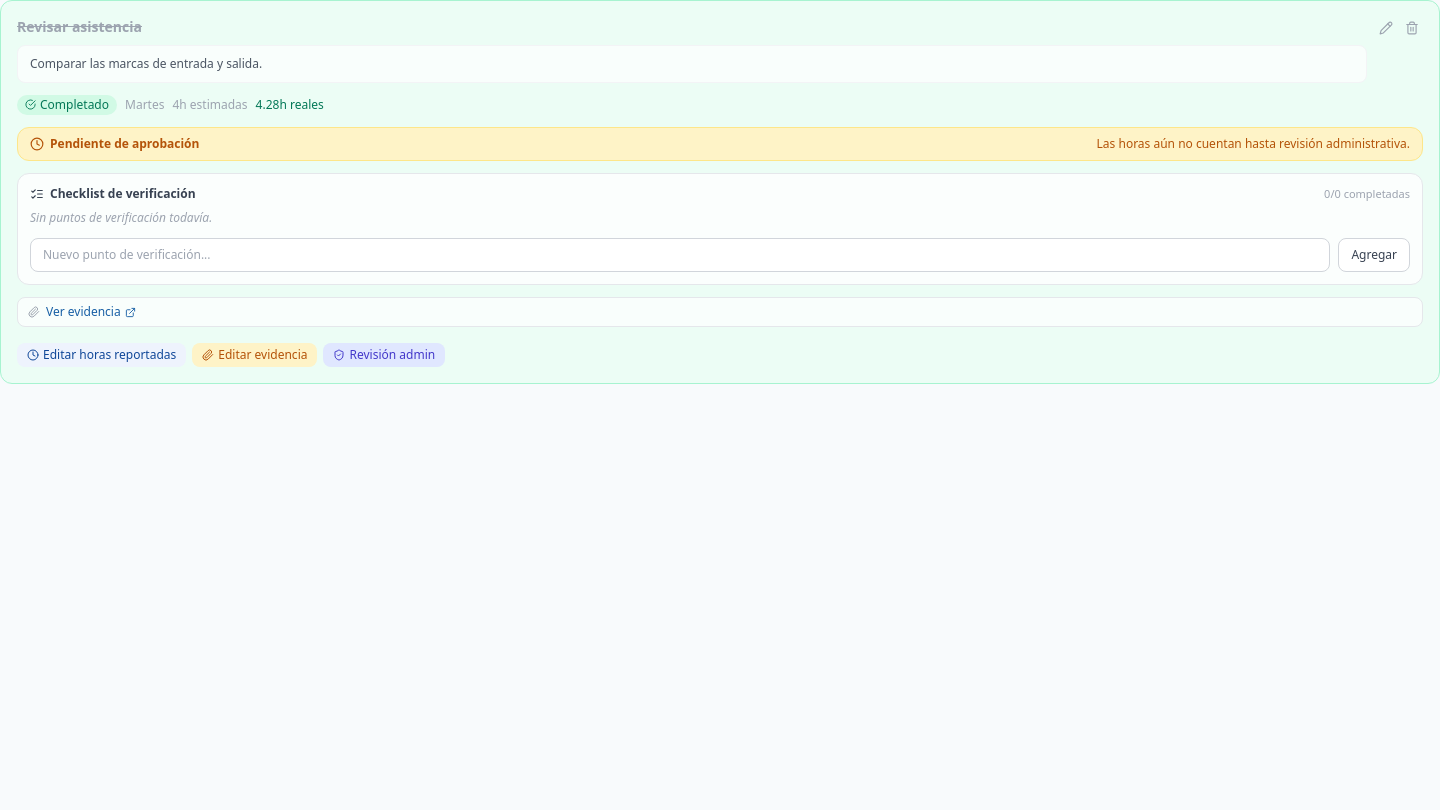
Scenario: edición de horas reportadas › precarga las horas reportadas redondeadas en el campo de revisión
The width and height of the screenshot is (1440, 810).
Step 1. Click the button "Revisión admin" → (384, 355), box x1=324 y1=343 x2=445 y2=367
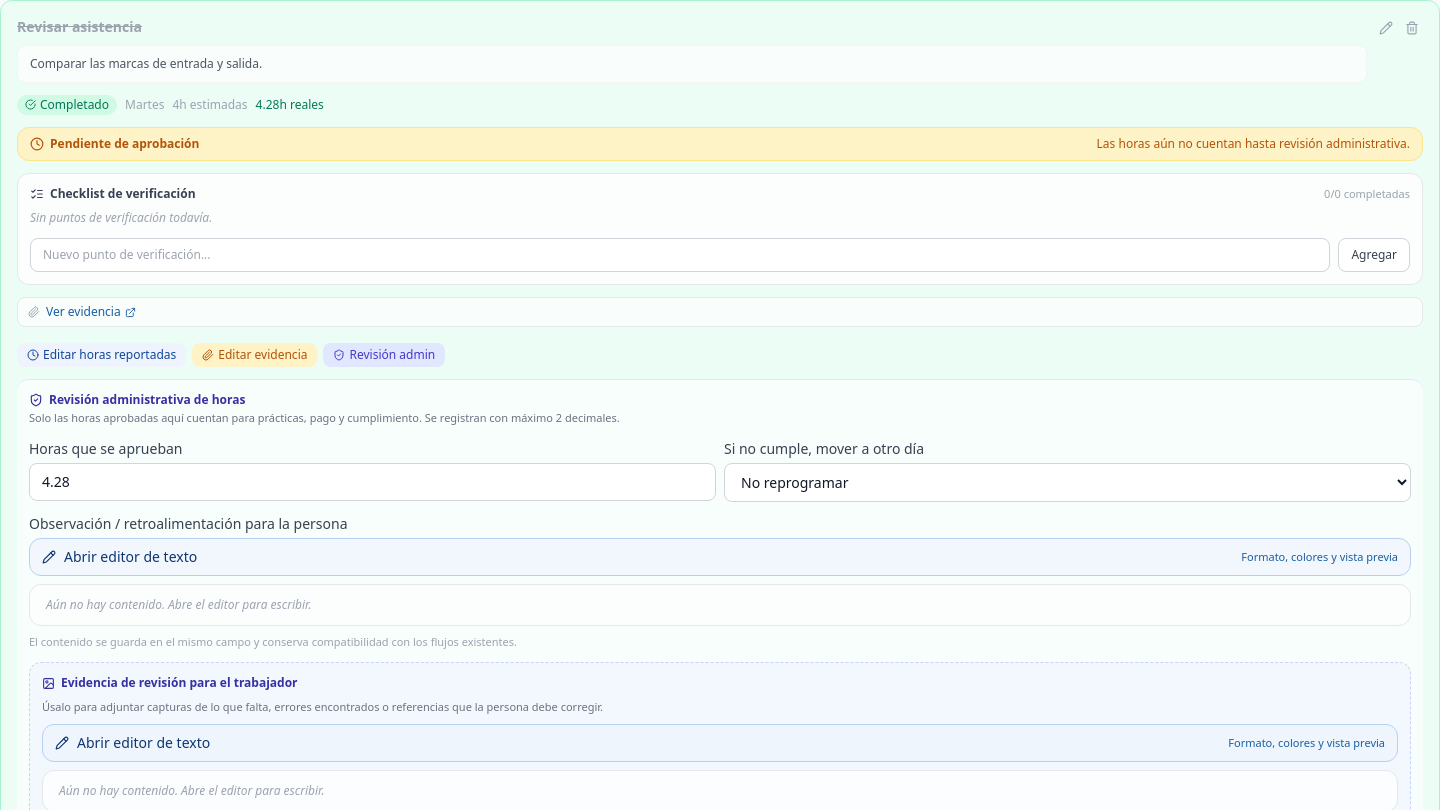
Check: the number field named "Horas que se aprueban" holds "4.28", box x1=29 y1=462 x2=716 y2=500
